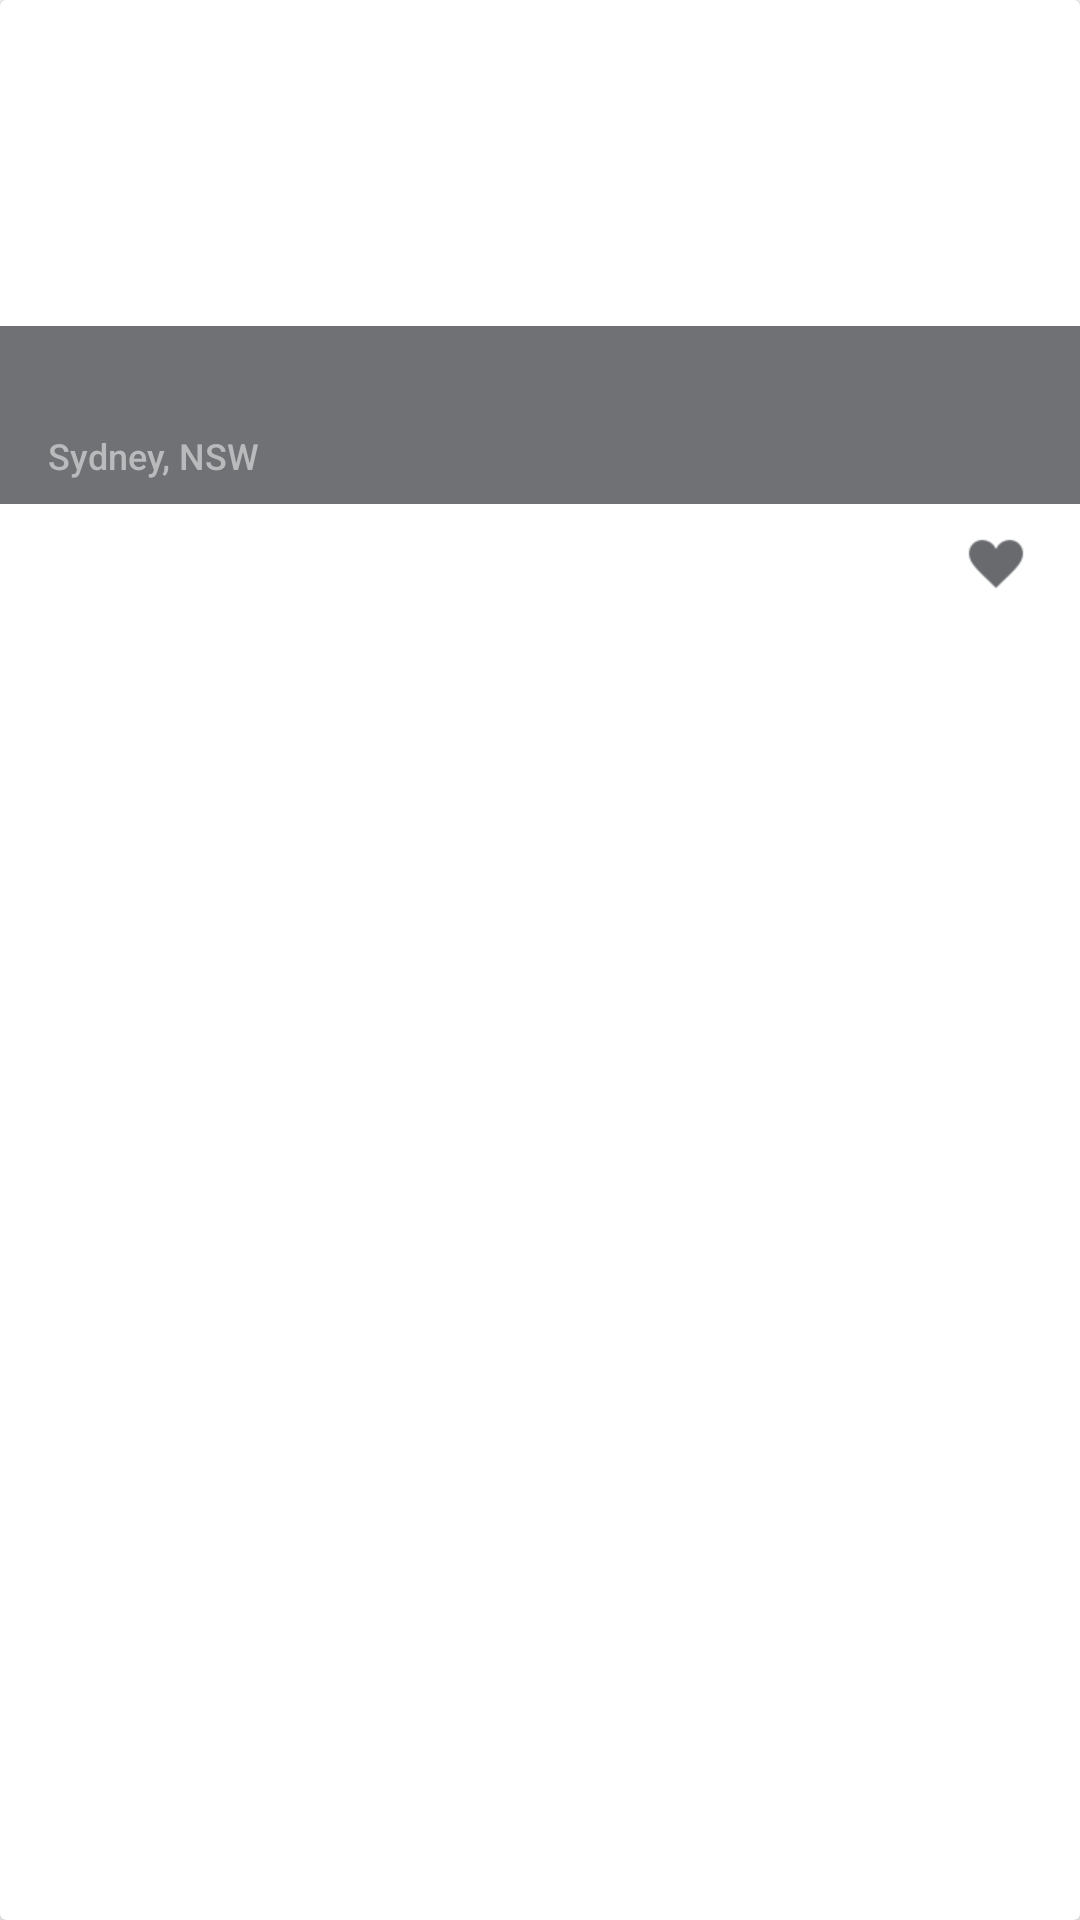

Icons on this 1080×1920 Android screen, each with its box as region(x1, y1, x2, y2):
favorite: region(969, 540, 1023, 588)
